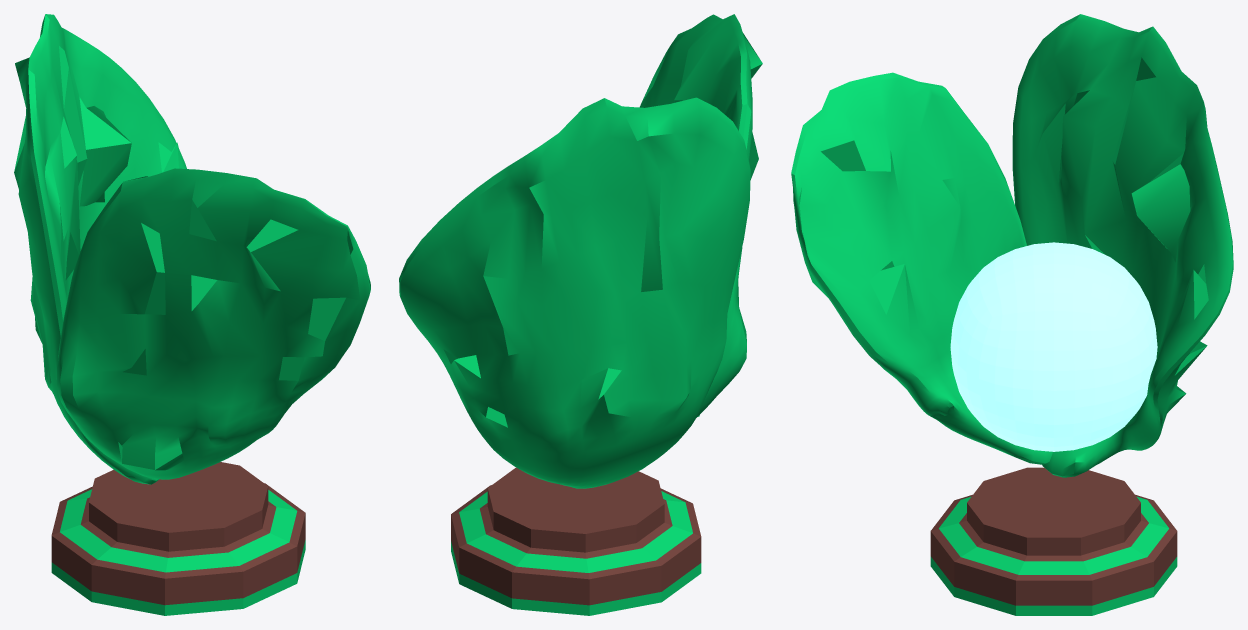
Rendered from coreSource.fbx.
3 renders of one model, left to right at view 1: azimuth 30°, elevation 25°; view 2: azimuth 150°, elevation 25°; view 3: azimuth 270°, elevation 25°, orthographic. The views are drawn at different scales.
Parts seen in each view (by area): view 1: Plane.001, Circle; view 2: Plane.001, Circle; view 3: Plane.001, Cube, Circle.
Boxes of the visible parts, x1,y1,x2,y2 form: Plane.001: [14, 14, 370, 484]; Circle: [51, 462, 305, 615]; Plane.001: [399, 14, 762, 488]; Circle: [451, 467, 701, 615]; Plane.001: [791, 14, 1233, 477]; Cube: [950, 242, 1157, 451]; Circle: [930, 467, 1177, 615].
Bounding box in the file's own units: 237 × 449 × 359.
